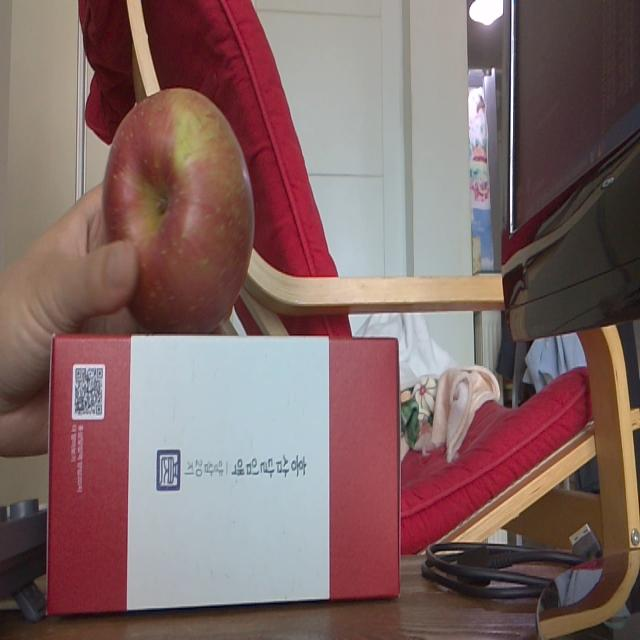apple: (102, 85, 256, 335)
